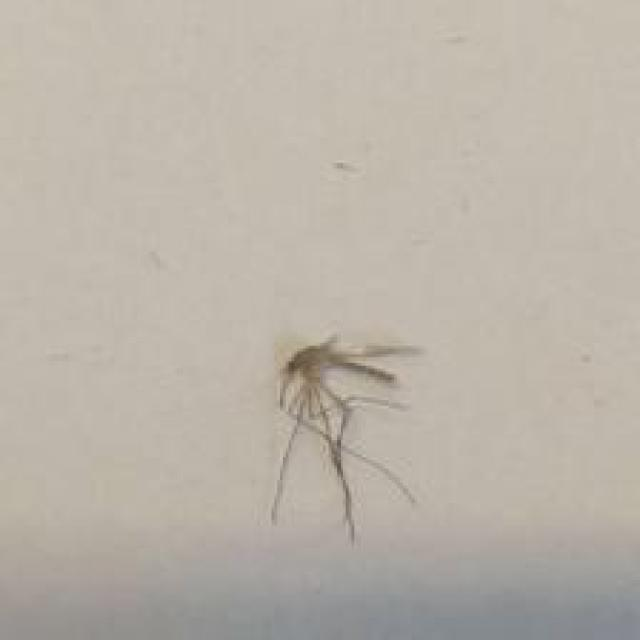Culex: (267, 331, 424, 546)
